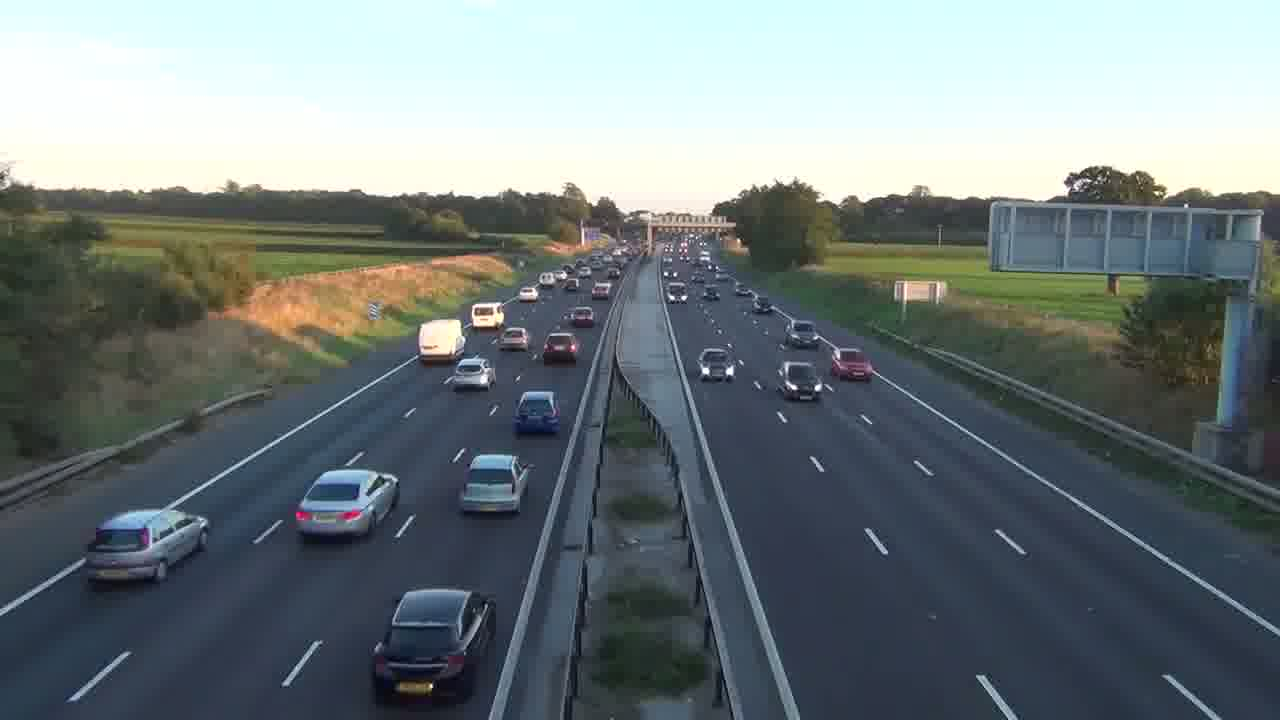car: (371, 587, 497, 705), (82, 508, 210, 587), (293, 466, 400, 541), (457, 453, 534, 515), (512, 390, 561, 435), (444, 355, 495, 392), (831, 348, 875, 382), (697, 347, 738, 383), (543, 332, 580, 365), (563, 306, 596, 328)
truck: (417, 318, 467, 365), (470, 302, 505, 332)
